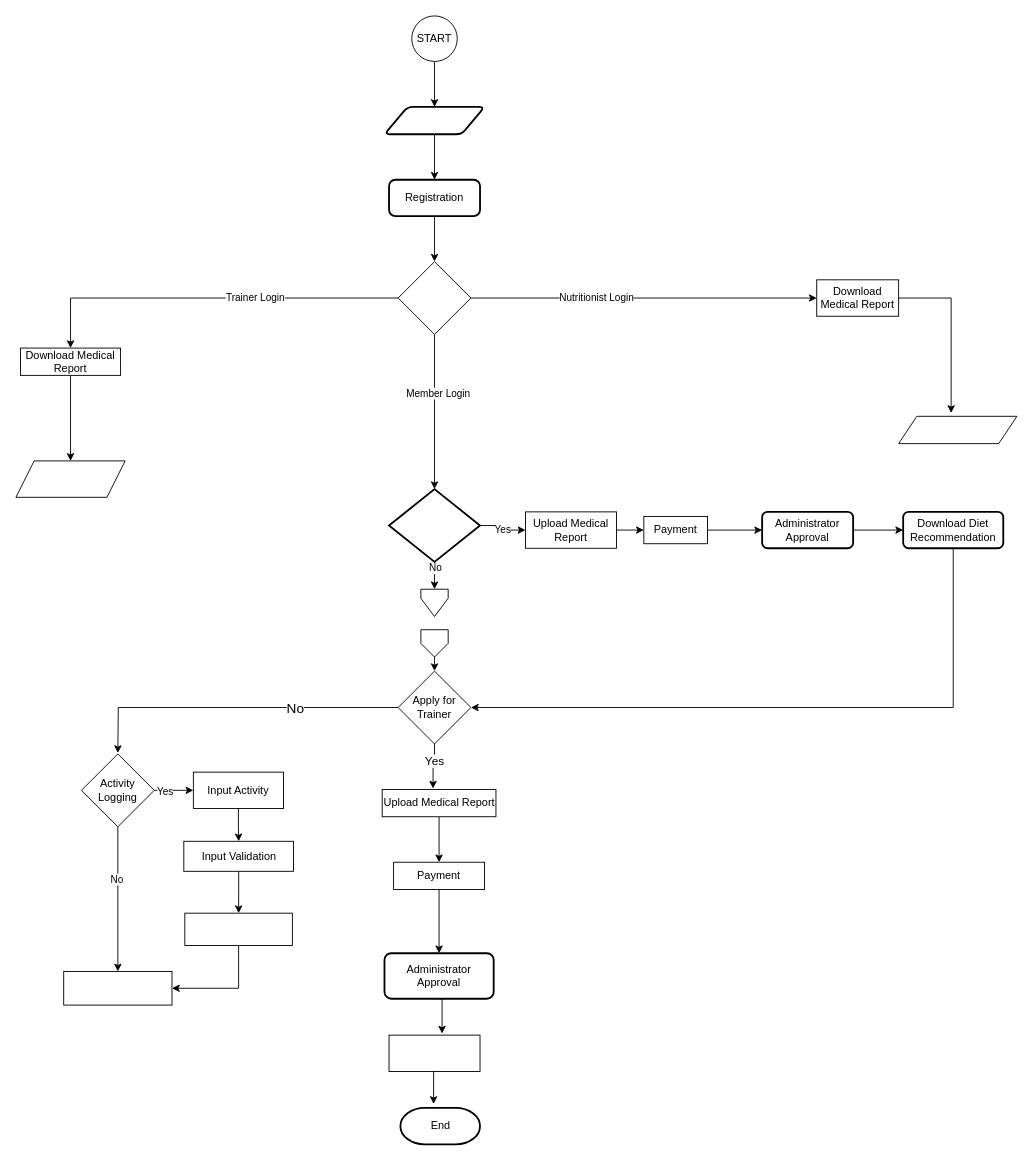
Image size: 1033x1161. Some labels were removed from this diagram. The box of each missing label's shape, as (x1, y1, x2, y2) in pixels:
Apply for Nutritionist: (388, 488, 480, 562)
Data Entry: (383, 106, 485, 135)
Data Storage: (184, 912, 292, 945)
Download Schedule: (388, 1034, 480, 1072)
Progress Viewing: (63, 971, 172, 1005)
Upload Diet Recommendation: (898, 415, 1017, 444)
Upload Schedule: (15, 460, 125, 497)
User Login: (397, 261, 471, 334)
